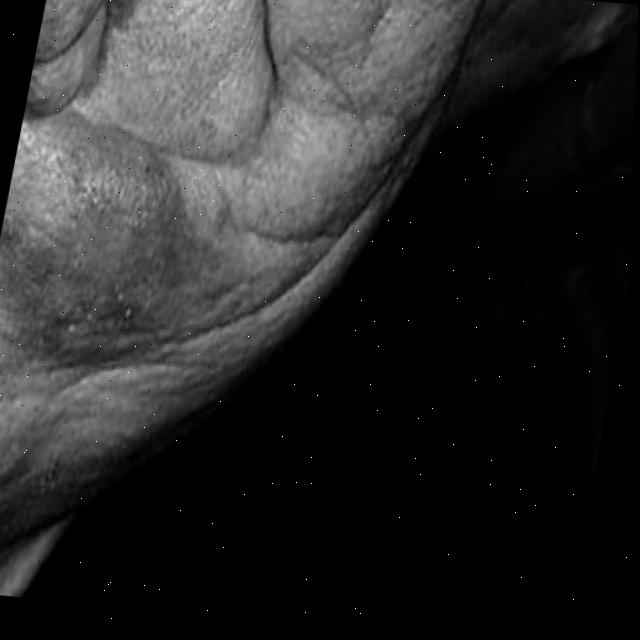Rosacea: (0, 130, 189, 357), (34, 0, 101, 67)
